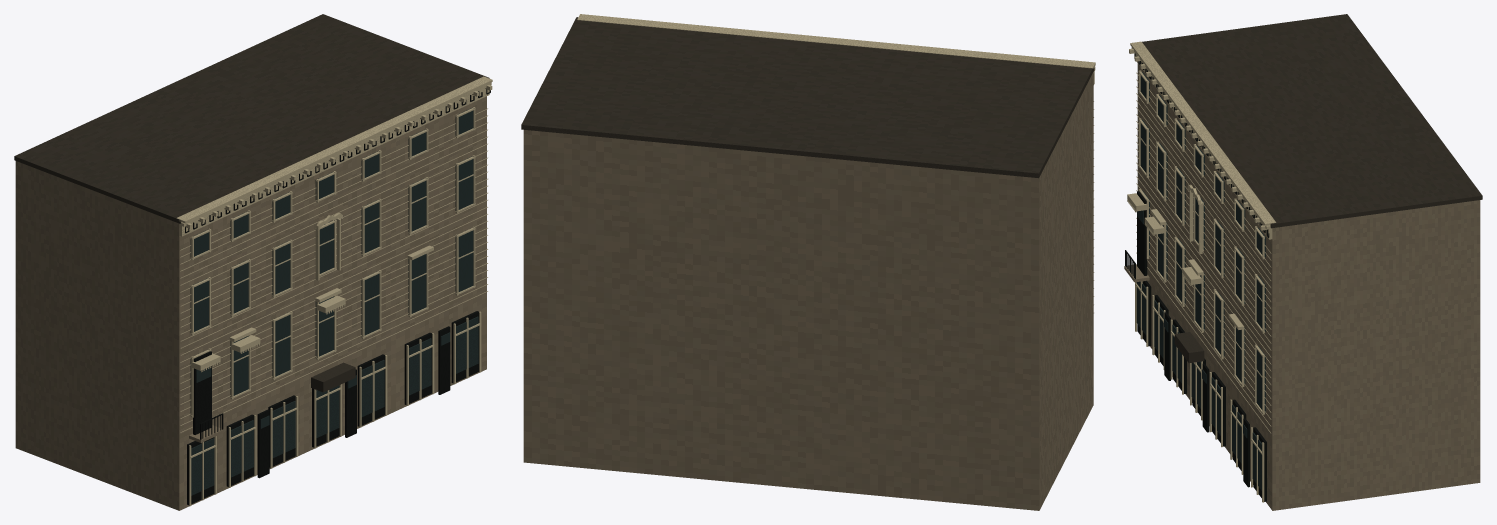
3 renders of one model, left to right at view 1: azimuth 30°, elevation 25°; view 2: azimuth 150°, elevation 25°; view 3: azimuth 270°, elevation 25°, orthographic. The views are drawn at different scales.
Parts seen in each view (by area): view 1: wijnhaven61-65-0, wijnhaven61-65-1, wijnhaven61-65-2, wijnhaven61-65-3, wijnhaven61-65-4; view 2: wijnhaven61-65-0, wijnhaven61-65-1, wijnhaven61-65-2; view 3: wijnhaven61-65-0, wijnhaven61-65-1, wijnhaven61-65-2, wijnhaven61-65-3, wijnhaven61-65-4.
Part boxes in pixels (x1=…): wijnhaven61-65-0: x1=15, y1=96, x2=486, y2=510; wijnhaven61-65-1: x1=14, y1=14, x2=489, y2=392; wijnhaven61-65-2: x1=176, y1=76, x2=492, y2=506; wijnhaven61-65-3: x1=190, y1=108, x2=478, y2=495; wijnhaven61-65-4: x1=185, y1=89, x2=490, y2=505; wijnhaven61-65-0: x1=523, y1=72, x2=1093, y2=510; wijnhaven61-65-1: x1=521, y1=17, x2=1094, y2=178; wijnhaven61-65-2: x1=577, y1=14, x2=1095, y2=296; wijnhaven61-65-0: x1=1124, y1=63, x2=1480, y2=510; wijnhaven61-65-1: x1=1142, y1=14, x2=1482, y2=363; wijnhaven61-65-2: x1=1127, y1=41, x2=1276, y2=502; wijnhaven61-65-3: x1=1136, y1=72, x2=1265, y2=490; wijnhaven61-65-4: x1=1125, y1=53, x2=1269, y2=501.
Bounding box in the file's own units: 27.36 × 17.46 × 19.69.
Materials: 5 (5 with a texture image).
